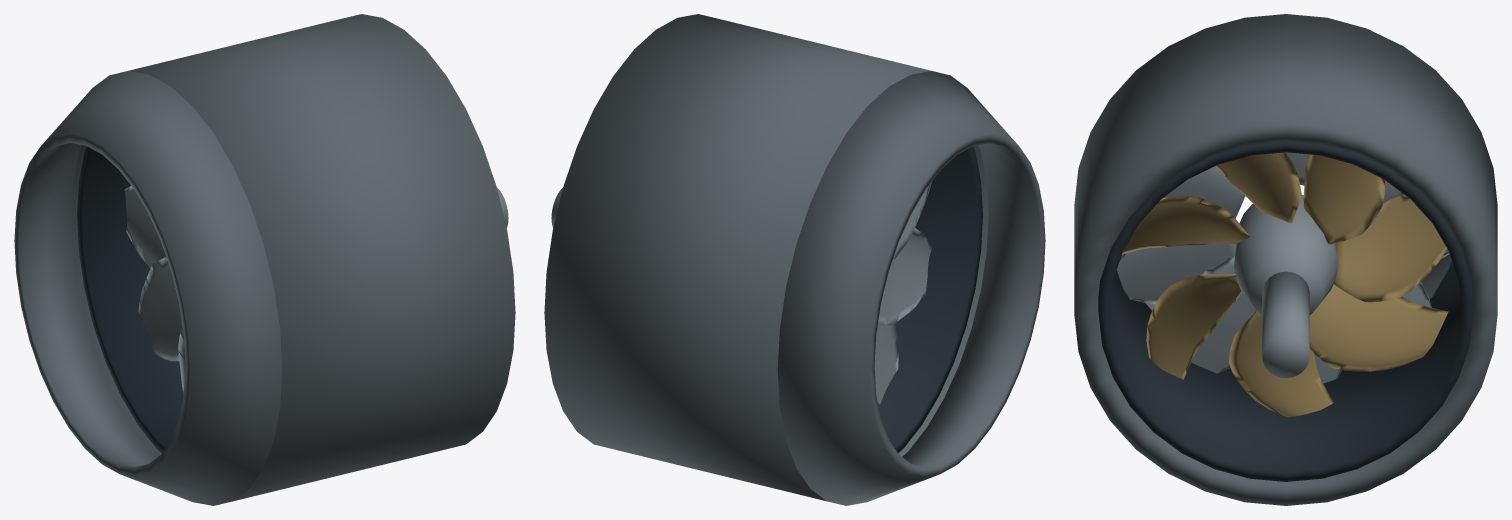
The model's file is RU_PJ_Yasen_LOD0.fbx.
3 views of the same model, side by side, from view 1: azimuth 30°, elevation 25°; view 2: azimuth 150°, elevation 25°; view 3: azimuth 270°, elevation 25° (orthographic). The views are drawn at different scales.
Parts seen in each view (by area): view 1: RU_PJ_Yasen_LOD0_Housing.001, RU_PJ_Yasen_LOD0_Nozzle.001, RU_PJ_Yasen_LOD0_Lining.001, RU_PJ_Yasen_LOD0_Stator_08.001, RU_PJ_Yasen_LOD0_Stator_00.001; view 2: RU_PJ_Yasen_LOD0_Housing.001, RU_PJ_Yasen_LOD0_Nozzle.001, RU_PJ_Yasen_LOD0_Lining.001, RU_PJ_Yasen_LOD0_Stator_05.001, RU_PJ_Yasen_LOD0_Stator_06.001, RU_PJ_Yasen_LOD0_Stator_04.001; view 3: RU_PJ_Yasen_LOD0_Housing.001, RU_PJ_Yasen_LOD0_Lining.001, RU_PJ_Yasen_LOD0_Rotor_06.001, RU_PJ_Yasen_LOD0_Rotor_00.001, RU_PJ_Yasen_LOD0_Hub.001, RU_PJ_Yasen_LOD0_Rotor_04.001, RU_PJ_Yasen_LOD0_Rotor_01.001, RU_PJ_Yasen_LOD0_Rotor_05.001, RU_PJ_Yasen_LOD0_Shaft.001, RU_PJ_Yasen_LOD0_Rotor_03.001, RU_PJ_Yasen_LOD0_Stator_05.001, RU_PJ_Yasen_LOD0_Rotor_02.001 (+3 smaller).
Boxes of the visible parts, left/top/right/bottom form: RU_PJ_Yasen_LOD0_Housing.001: left=71, top=14, right=515, bottom=501; RU_PJ_Yasen_LOD0_Nozzle.001: left=14, top=71, right=282, bottom=505; RU_PJ_Yasen_LOD0_Lining.001: left=77, top=146, right=183, bottom=453; RU_PJ_Yasen_LOD0_Stator_08.001: left=138, top=257, right=181, bottom=361; RU_PJ_Yasen_LOD0_Stator_00.001: left=124, top=186, right=175, bottom=289; RU_PJ_Yasen_LOD0_Housing.001: left=544, top=14, right=988, bottom=501; RU_PJ_Yasen_LOD0_Nozzle.001: left=777, top=71, right=1045, bottom=505; RU_PJ_Yasen_LOD0_Lining.001: left=878, top=146, right=982, bottom=453; RU_PJ_Yasen_LOD0_Stator_05.001: left=878, top=228, right=932, bottom=325; RU_PJ_Yasen_LOD0_Stator_06.001: left=874, top=292, right=898, bottom=405; RU_PJ_Yasen_LOD0_Stator_04.001: left=893, top=182, right=931, bottom=259; RU_PJ_Yasen_LOD0_Housing.001: left=1074, top=14, right=1497, bottom=505; RU_PJ_Yasen_LOD0_Lining.001: left=1098, top=142, right=1473, bottom=481; RU_PJ_Yasen_LOD0_Rotor_06.001: left=1309, top=284, right=1448, bottom=371; RU_PJ_Yasen_LOD0_Rotor_00.001: left=1334, top=194, right=1446, bottom=302; RU_PJ_Yasen_LOD0_Hub.001: left=1234, top=194, right=1337, bottom=314; RU_PJ_Yasen_LOD0_Rotor_04.001: left=1146, top=274, right=1241, bottom=379; RU_PJ_Yasen_LOD0_Rotor_01.001: left=1302, top=154, right=1384, bottom=244; RU_PJ_Yasen_LOD0_Rotor_05.001: left=1229, top=310, right=1333, bottom=417; RU_PJ_Yasen_LOD0_Shaft.001: left=1262, top=271, right=1309, bottom=377; RU_PJ_Yasen_LOD0_Rotor_03.001: left=1122, top=195, right=1249, bottom=254; RU_PJ_Yasen_LOD0_Stator_05.001: left=1117, top=243, right=1236, bottom=304; RU_PJ_Yasen_LOD0_Rotor_02.001: left=1215, top=152, right=1301, bottom=223.
Size of the model in its own units: 603 by 590 by 590.
